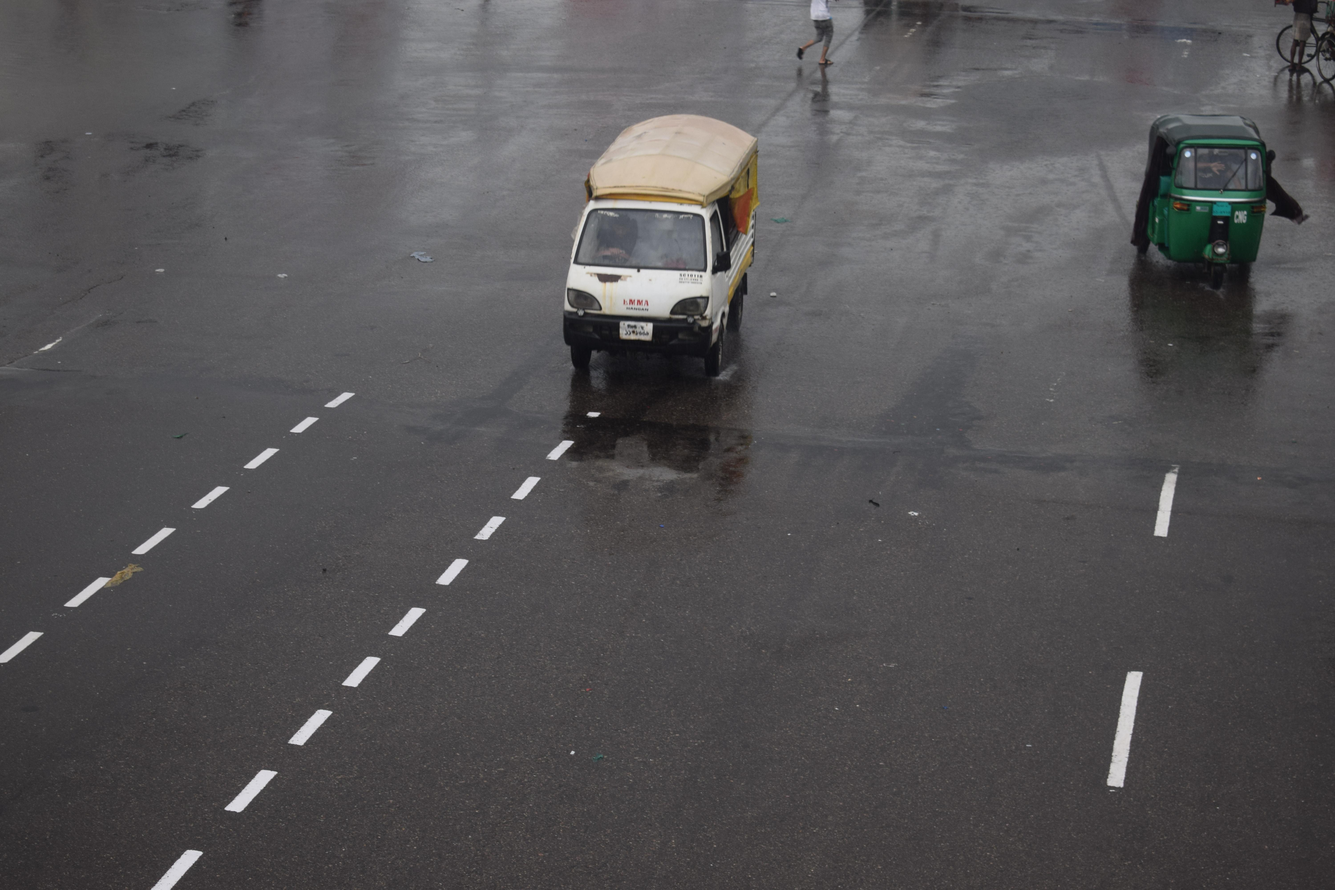Car: (438, 71, 830, 439)
